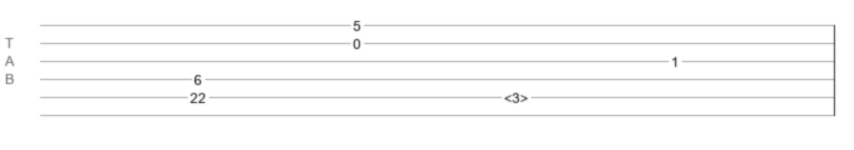0: (353, 36, 361, 46)
1: (671, 54, 679, 64)
22: (190, 90, 206, 100)
5: (353, 18, 361, 28)
6: (194, 72, 202, 82)
harmonic: (504, 90, 528, 100)
